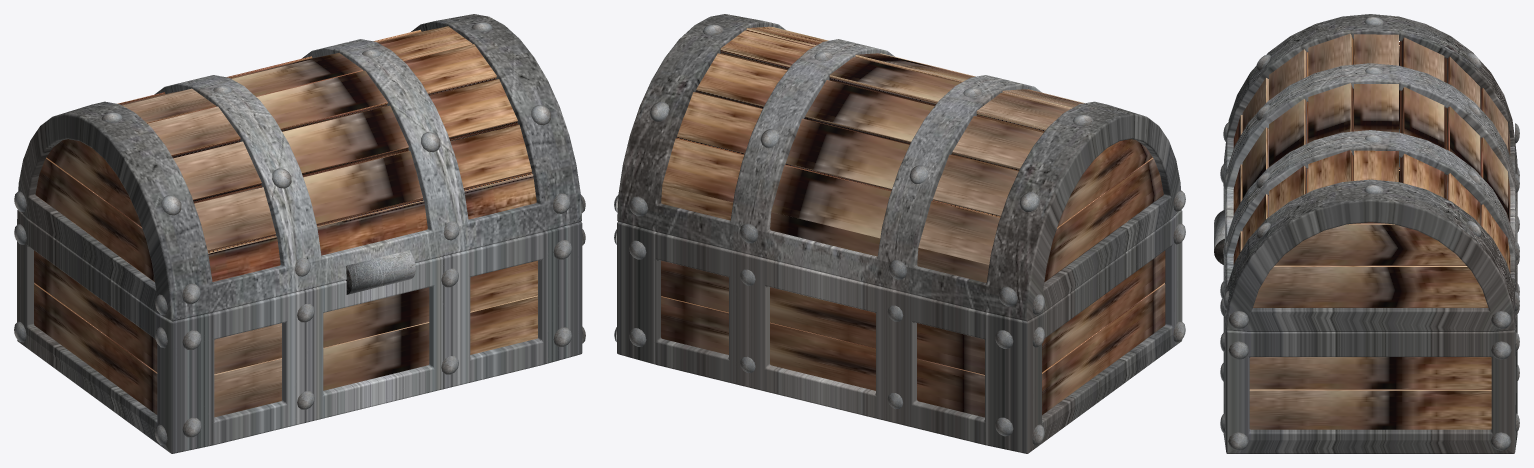
File: Lab5.obj
The picture shows the model from 3 angles, left to right: view 1: azimuth 30°, elevation 25°; view 2: azimuth 150°, elevation 25°; view 3: azimuth 270°, elevation 25°; orthographic projection. The views are drawn at different scales.
Visible parts, largest first — view 1: Cylinder, Cube.008, Cube.009, Cube, Cube.010, Cube.005, Cube.007, Cube.011, Cube.022, Cube.028, Cube.021, Cube.025 (+1 smaller); view 2: Cylinder, Cube.013, Cube.014, Cube.012, Cube.002, Cube.003, Cube.011, Cube.022, Cube.028, Cube.015, Cube.021, Cube.025 (+1 smaller); view 3: Cylinder, Cube.018, Cube.030, Cube.016, Cube.029, Cube.011, Cube.010, Cube.012, Cube.009, Cube.013, Cube.014, Cube.008 (+2 smaller).
Part boxes in pixels (<box>): Cylinder: <box>17,14,582,453</box>; Cube.008: <box>194,124,531,250</box>; Cube.009: <box>173,79,517,203</box>; Cube: <box>214,295,537,417</box>; Cube.010: <box>148,44,496,158</box>; Cube.005: <box>214,260,537,374</box>; Cube.007: <box>208,172,536,281</box>; Cube.011: <box>122,26,472,123</box>; Cube.022: <box>34,283,157,414</box>; Cube.028: <box>35,157,154,281</box>; Cube.021: <box>34,250,157,372</box>; Cube.025: <box>46,139,141,226</box>; Cylinder: <box>617,14,1182,453</box>; Cube.013: <box>676,92,1018,217</box>; Cube.014: <box>662,138,999,264</box>; Cube.012: <box>695,53,1043,171</box>; Cube.002: <box>661,296,984,417</box>; Cube.003: <box>661,260,984,374</box>; Cube.011: <box>720,30,1068,132</box>; Cube.022: <box>1042,283,1165,414</box>; Cube.028: <box>1044,157,1163,281</box>; Cube.015: <box>661,185,989,282</box>; Cube.021: <box>1042,250,1165,372</box>; Cube.025: <box>1057,139,1152,226</box>; Cylinder: <box>1223,14,1517,453</box>; Cube.018: <box>1249,389,1491,429</box>; Cube.030: <box>1253,265,1488,307</box>; Cube.016: <box>1249,357,1491,389</box>; Cube.029: <box>1275,222,1465,265</box>; Cube.011: <box>1354,34,1398,181</box>; Cube.010: <box>1308,33,1353,192</box>; Cube.012: <box>1400,37,1444,197</box>; Cube.009: <box>1269,49,1308,216</box>; Cube.013: <box>1444,57,1480,224</box>; Cube.014: <box>1480,88,1507,265</box>; Cube.008: <box>1242,78,1268,248</box>.
Size of the model in its own units: 3.32 by 2.06 by 2.22.
Materials: 2 (2 with a texture image).
